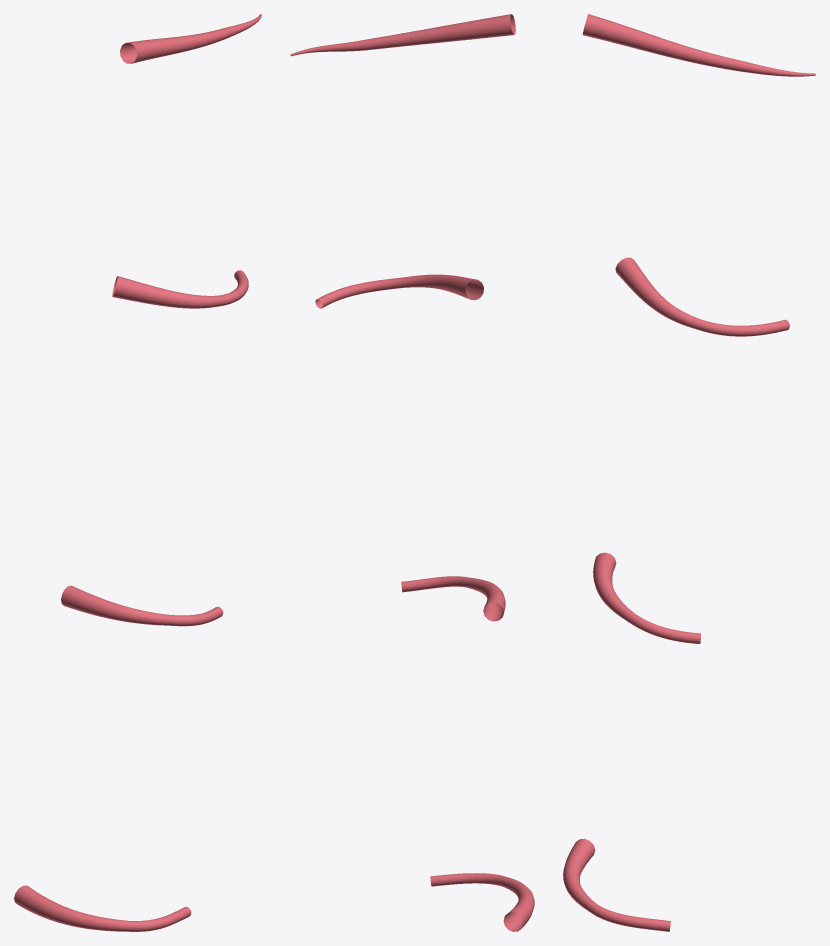
3 views of the same model, side by side, from view 1: azimuth 30°, elevation 25°; view 2: azimuth 150°, elevation 25°; view 3: azimuth 330°, elevation 25° (orthographic). The views are drawn at different scales.
Parts seen in each view (by area): view 1: ZA_edb89f7709d59b27; view 2: ZA_edb89f7709d59b27; view 3: ZA_edb89f7709d59b27.
Part boxes in pixels (x1,y1,x2,y2): ZA_edb89f7709d59b27: [14, 14, 261, 931]; ZA_edb89f7709d59b27: [290, 14, 534, 931]; ZA_edb89f7709d59b27: [563, 14, 815, 931].
Size of the model in its own units: 0.0515 by 0.1822 by 0.0216.
